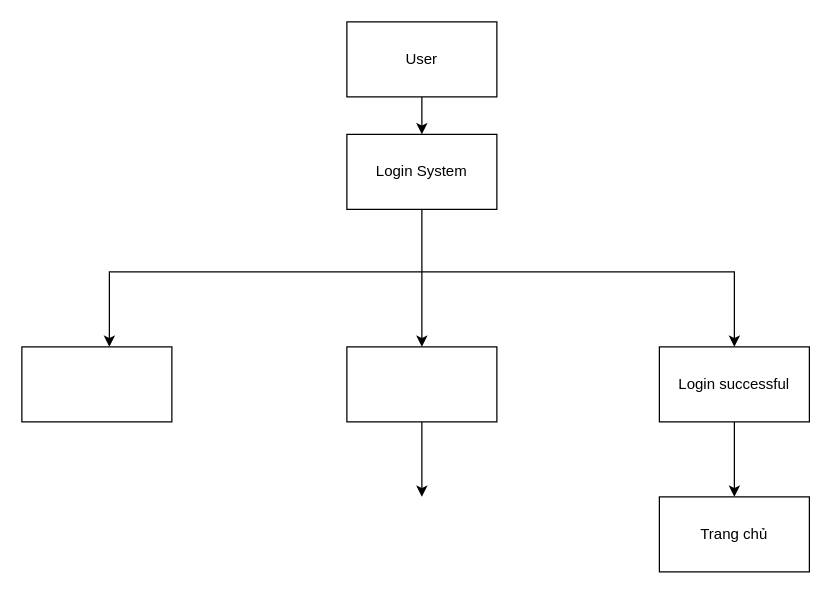
This 831x594 diagram has some shape labels left out. The shapes that lost their labels are listed below. From the top down, each one's centre as x and y in pixels, then its label:
point 96,384: Enter your username
point 421,384: Forget Password
